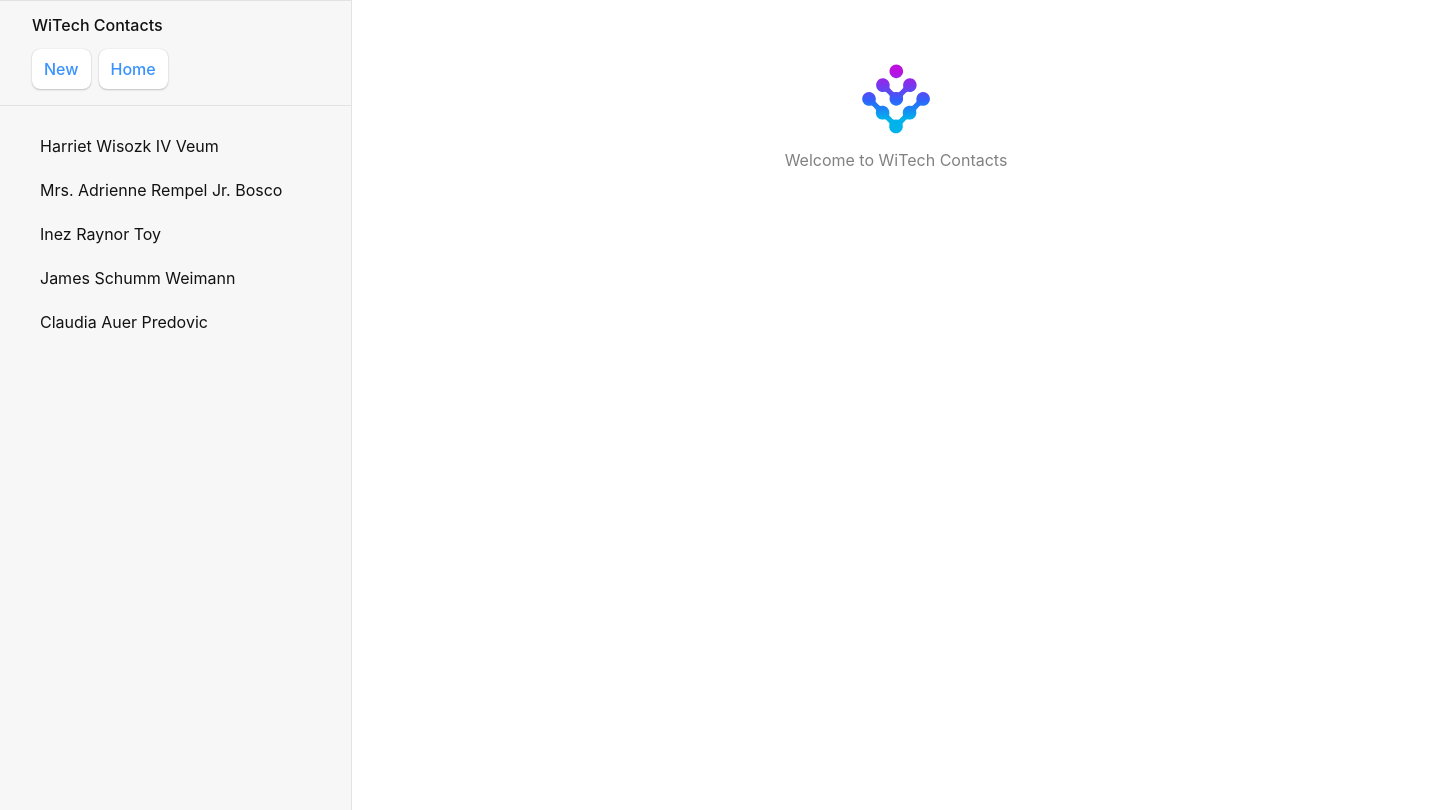
New Butonu Çalışıyor
Click the button "New": (61, 69) [32,49,90,89]
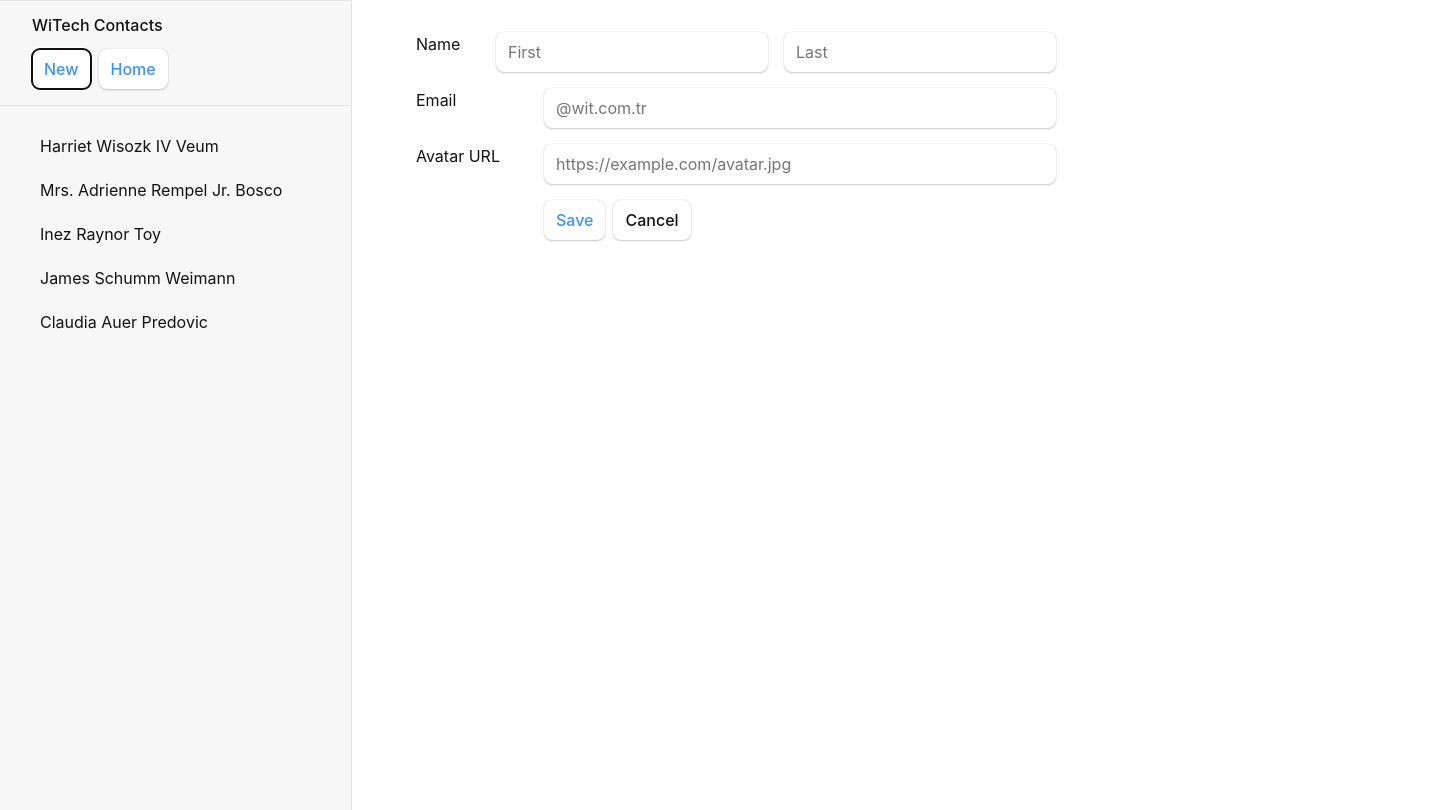
expect the field with placeholder "First" is shown: met, box [496,32,768,72]
